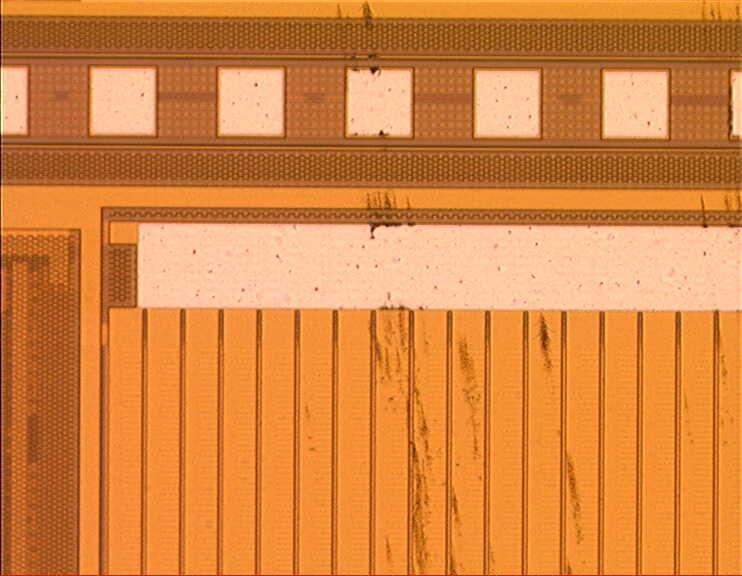SCRATCH: (329, 1, 742, 576)
